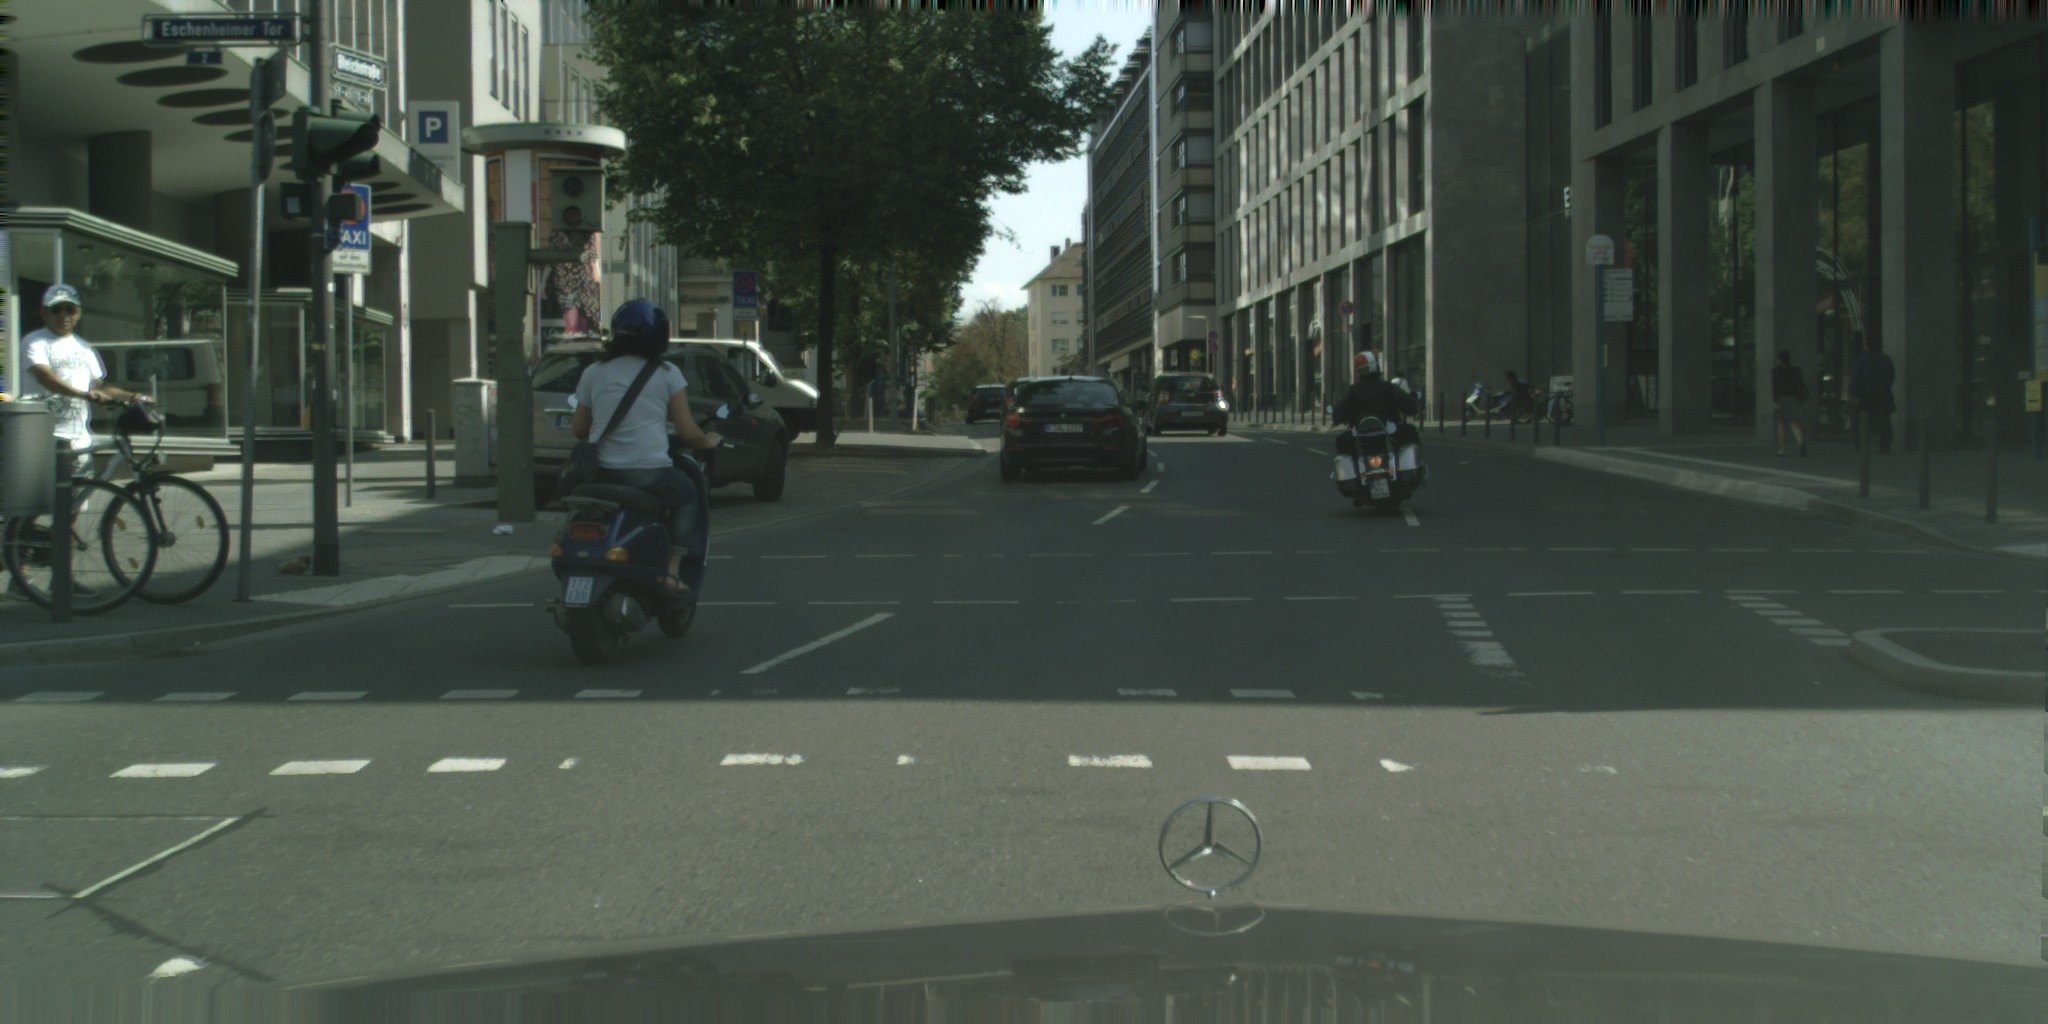car: (526, 341, 788, 510), (649, 338, 822, 444), (1000, 374, 1148, 481), (1141, 373, 1229, 437), (999, 376, 1040, 429), (965, 385, 1010, 424)
motorcycle: (545, 400, 754, 665), (1332, 412, 1430, 515), (1463, 381, 1523, 423)
person: (21, 284, 147, 536), (1849, 336, 1897, 453), (1772, 351, 1811, 457), (1391, 372, 1411, 402)
rider: (558, 298, 724, 595), (1330, 350, 1421, 454)
